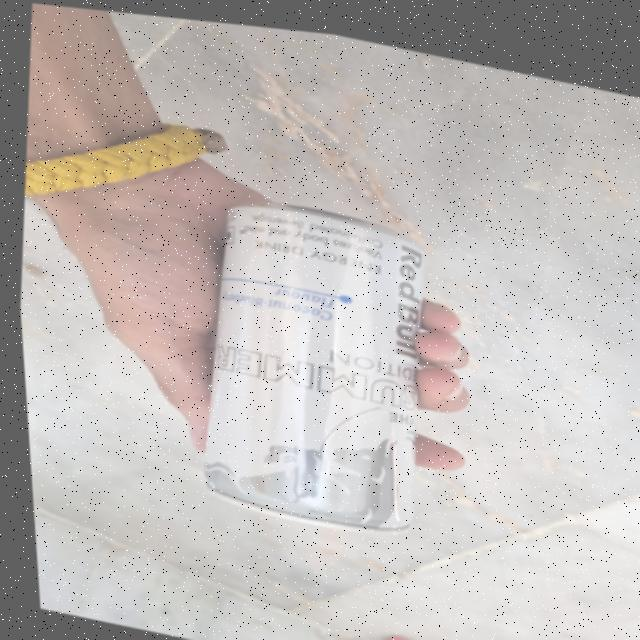Redbull Summer Edition: (179, 192, 440, 530)
